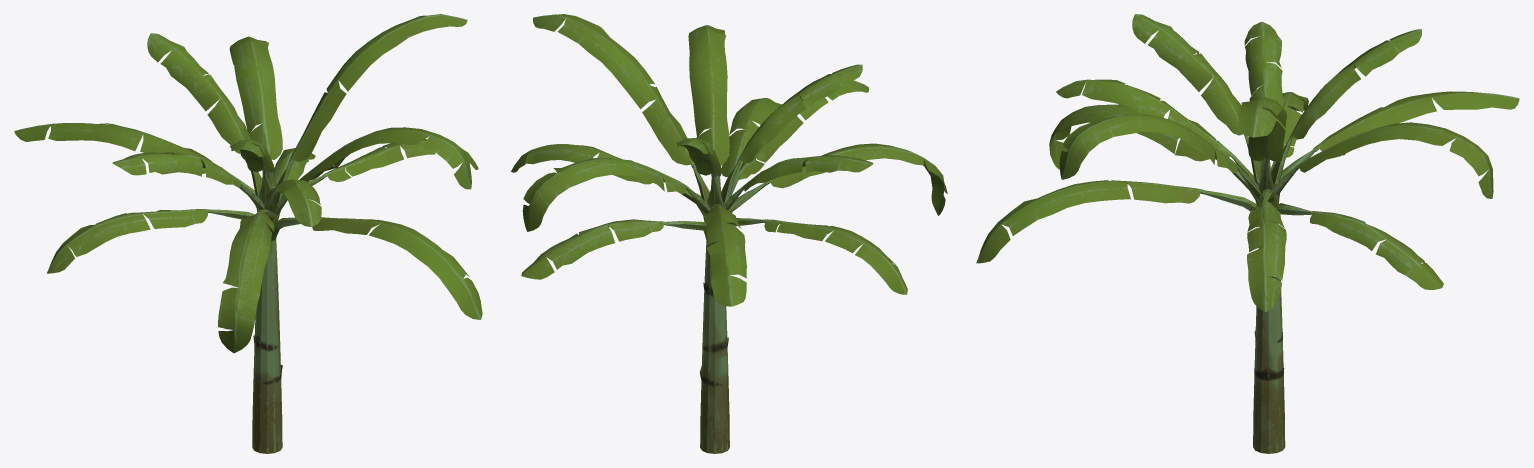
3 views of the same model, side by side, from view 1: azimuth 30°, elevation 25°; view 2: azimuth 150°, elevation 25°; view 3: azimuth 270°, elevation 25° (orthographic). The views are drawn at different scales.
Visible parts, largest first — view 1: BANANA_PLANT; view 2: BANANA_PLANT; view 3: BANANA_PLANT.
Boxes of the visible parts, x1,y1,x2,y2 form: BANANA_PLANT: (14, 14, 482, 453); BANANA_PLANT: (511, 14, 947, 453); BANANA_PLANT: (976, 14, 1519, 453).
Size of the model in its own units: 11.11 by 10.1 by 11.81.
1 material, 1 textured.
